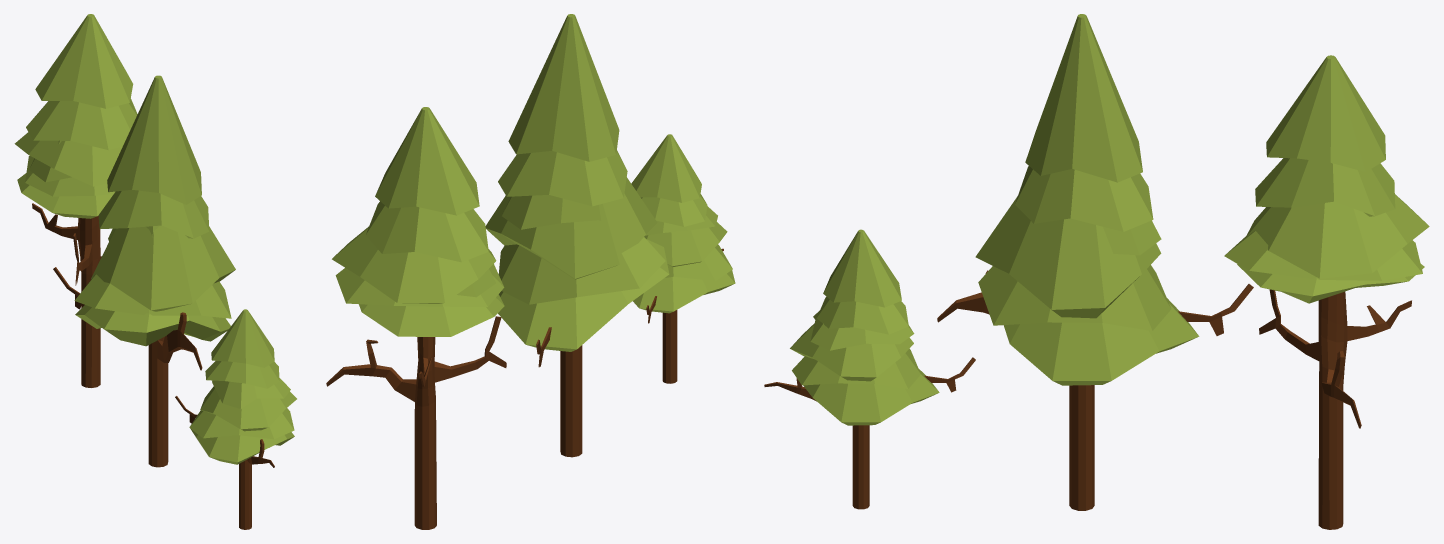
File: Trees.fbx
The picture shows the model from 3 angles, left to right: view 1: azimuth 30°, elevation 25°; view 2: azimuth 150°, elevation 25°; view 3: azimuth 270°, elevation 25°; orthographic projection. The views are drawn at different scales.
Parts seen in each view (by area): view 1: Cylinder.003, Cylinder.004, Cylinder.006; view 2: Cylinder.003, Cylinder.004, Cylinder.006; view 3: Cylinder.003, Cylinder.004, Cylinder.006.
Part boxes in pixels (left/top/right/bottom): Cylinder.003: left=53, top=75, right=235, bottom=467; Cylinder.004: left=14, top=14, right=137, bottom=387; Cylinder.006: left=175, top=309, right=296, bottom=529; Cylinder.003: left=485, top=14, right=669, bottom=457; Cylinder.004: left=326, top=107, right=506, bottom=529; Cylinder.006: left=631, top=134, right=735, bottom=383; Cylinder.003: left=937, top=14, right=1253, bottom=510; Cylinder.004: left=1224, top=55, right=1429, bottom=529; Cylinder.006: left=764, top=229, right=975, bottom=509.
Bounding box in the file's own units: 358 × 733 × 902.
